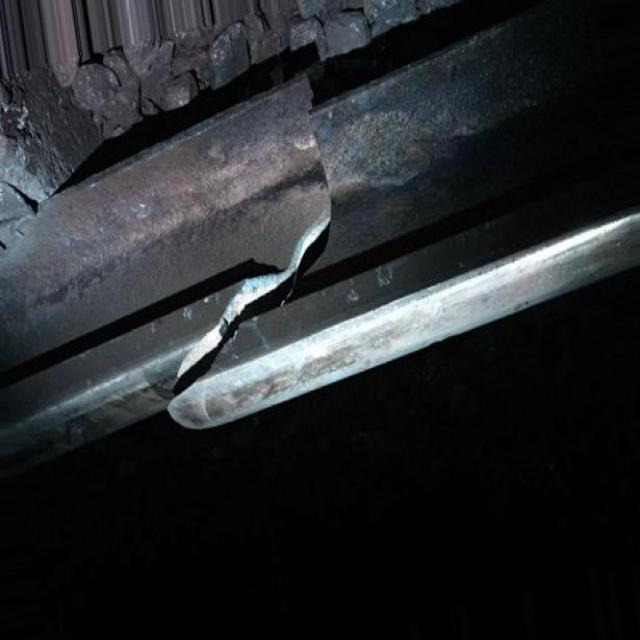crack: (136, 74, 417, 478)
